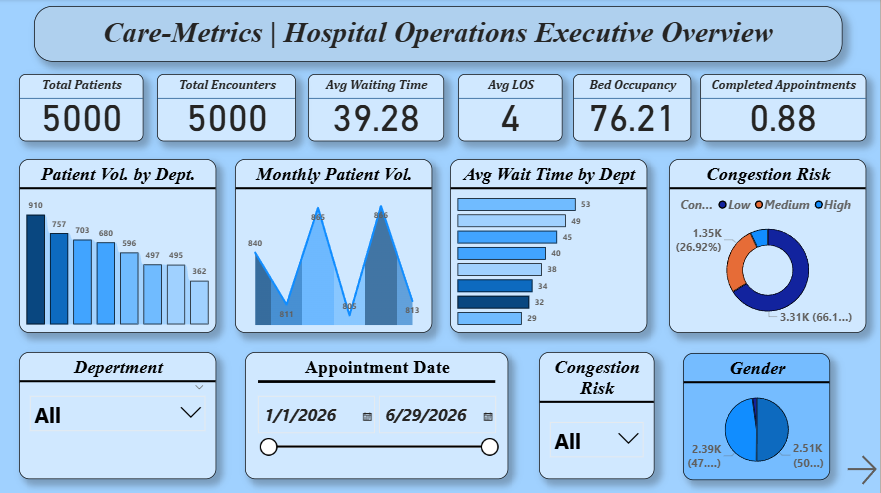

The page's visual inventory and layout, read from the dashboard file:
{"tool":"powerbi","page":{"name":"Executive Overview","canvas":[1280,720],"ordinal":0},"visuals":[{"type":"card","title":"Total Patients","fields":{"Values":["PowerBI_Unified.Total Patients"]},"box":[28.3,108.8,180.7,98],"z":0},{"type":"columnChart","title":"Patient Vol. by Dept.","fields":{"Category":["PowerBI_Unified.Department"],"Y":["CountNonNull(PowerBI_Unified.Encounter_ID)"]},"box":[28.3,232.9,287.3,252.5],"z":1000},{"type":"card","title":"Avg Waiting Time","fields":{"Values":["PowerBI_Unified.Avg Waiting Time"]},"box":[448.4,108.8,198.1,98],"z":2000},{"type":"card","title":"Total Encounters","fields":{"Values":["PowerBI_Unified.Total Encounters"]},"box":[228.6,108.8,202.4,98],"z":3000},{"type":"card","title":"Avg LOS","fields":{"Values":["PowerBI_Unified.Avg LOS"]},"box":[666.1,108.8,152.4,98],"z":4000},{"type":"card","title":"Bed Occupancy","fields":{"Values":["PowerBI_Unified.Avg Bed Occupancy"]},"box":[833.7,108.8,172,98],"z":5000},{"type":"textbox","box":[50.1,10.9,1175.5,80.5],"z":6000},{"type":"card","title":"Completed Appointments","fields":{"Values":["PowerBI_Unified.Completed Appointment %"]},"box":[1018.8,108.8,241.6,98],"z":7000},{"type":"slicer","title":"Appointment Date","fields":{"Values":["PowerBI_Unified.Appointment_Date"]},"box":[357,513.7,383.1,185],"z":8000},{"type":"lineChart","title":"Monthly Patient Vol.","fields":{"Category":["Calendar.Month"],"Y":["CountNonNull(PowerBI_Unified.Encounter_ID)"]},"box":[341.8,232.9,287.3,252.5],"z":9000},{"type":"clusteredBarChart","title":"Avg Wait Time by Dept","fields":{"Category":["PowerBI_Unified.Department"],"Y":["PowerBI_Unified.Avg Waiting Time"]},"box":[655.2,232.9,287.3,252.5],"z":10000},{"type":"pieChart","title":"Gender","fields":{"Category":["PowerBI_Unified.Gender"],"Y":["CountNonNull(PowerBI_Unified.Gender)"]},"box":[994,514.4,214.5,184.9],"z":11000},{"type":"slicer","title":"Depertment","fields":{"Values":["PowerBI_Unified.Department"]},"box":[28.3,513.7,287.3,185],"z":12000},{"type":"slicer","title":"Congestion Risk","fields":{"Values":["Calendar.Capacity Status"]},"box":[783.7,513.7,167.6,185],"z":13000},{"type":"actionButton","box":[1225.9,650.5,54.1,69.8],"z":14000},{"type":"donutChart","title":"Congestion Risk","fields":{"Category":["PowerBI_Unified.Congestion_Risk"],"Y":["CountNonNull(PowerBI_Unified.Encounter_ID)"]},"box":[973.1,232.9,287.3,252.5],"z":15000}]}

Visuals, with their boxes in screenshot pixels (x1, y1, x2, y2), scaled from the page's 1280x720 canvas onto the 881x493 screenshot:
"Total Patients" card: bbox=[19, 74, 144, 142]
"Patient Vol. by Dept." columnChart: bbox=[19, 159, 217, 332]
"Avg Waiting Time" card: bbox=[309, 74, 445, 142]
"Total Encounters" card: bbox=[157, 74, 297, 142]
"Avg LOS" card: bbox=[458, 74, 563, 142]
"Bed Occupancy" card: bbox=[574, 74, 692, 142]
textbox: bbox=[34, 7, 844, 63]
"Completed Appointments" card: bbox=[701, 74, 868, 142]
"Appointment Date" slicer: bbox=[246, 352, 509, 478]
"Monthly Patient Vol." lineChart: bbox=[235, 159, 433, 332]
"Avg Wait Time by Dept" clusteredBarChart: bbox=[451, 159, 649, 332]
"Gender" pieChart: bbox=[684, 352, 832, 479]
"Depertment" slicer: bbox=[19, 352, 217, 478]
"Congestion Risk" slicer: bbox=[539, 352, 655, 478]
actionButton: bbox=[844, 445, 880, 492]
"Congestion Risk" donutChart: bbox=[670, 159, 868, 332]
